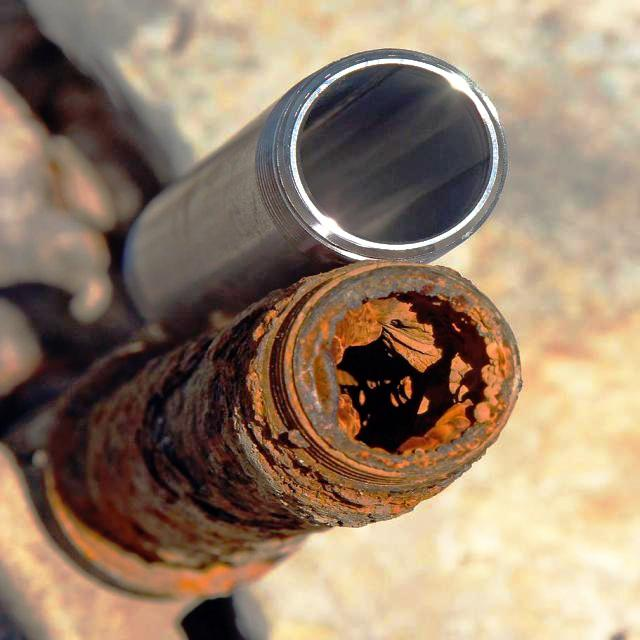Corrosion: (13, 262, 525, 600)
